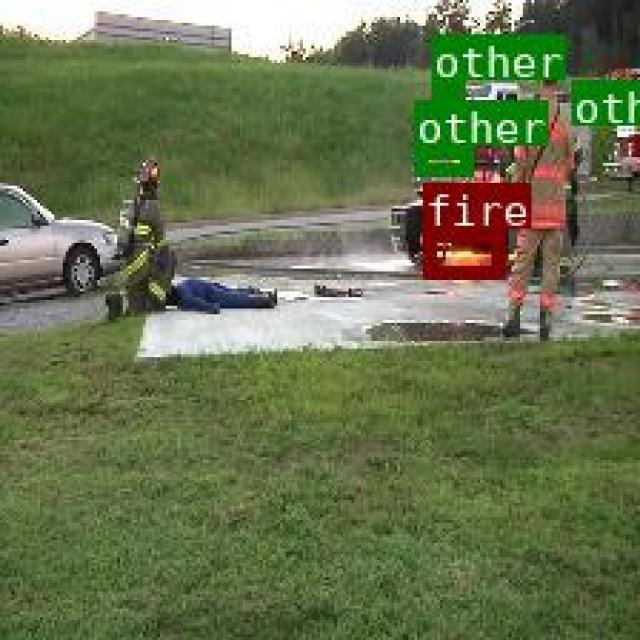fire: (423, 227, 501, 275)
